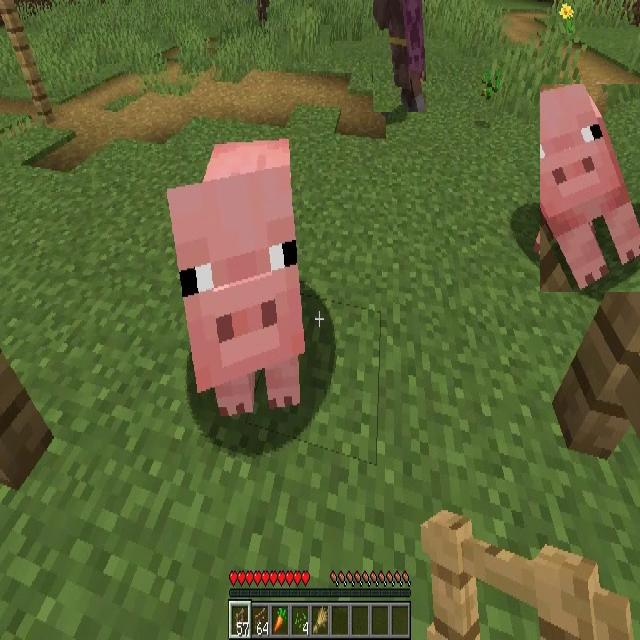flower: (558, 4, 575, 34)
people: (373, 0, 426, 112)
pig: (169, 143, 302, 417), (540, 84, 640, 292)
